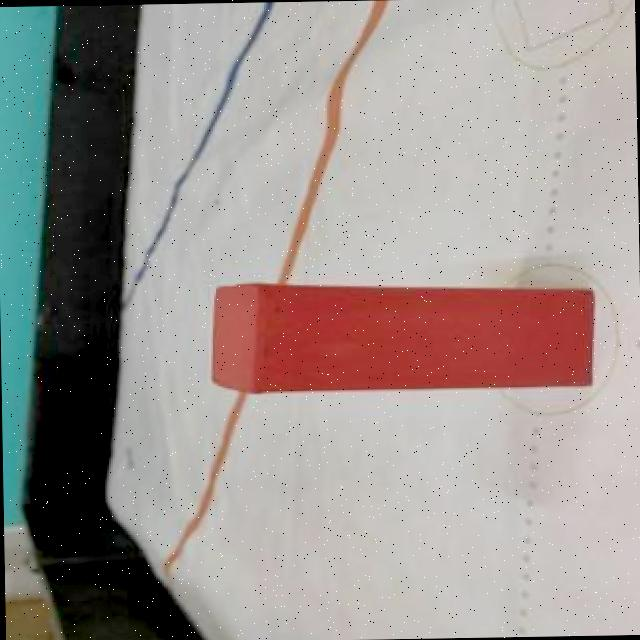redbox: (205, 274, 592, 392)
